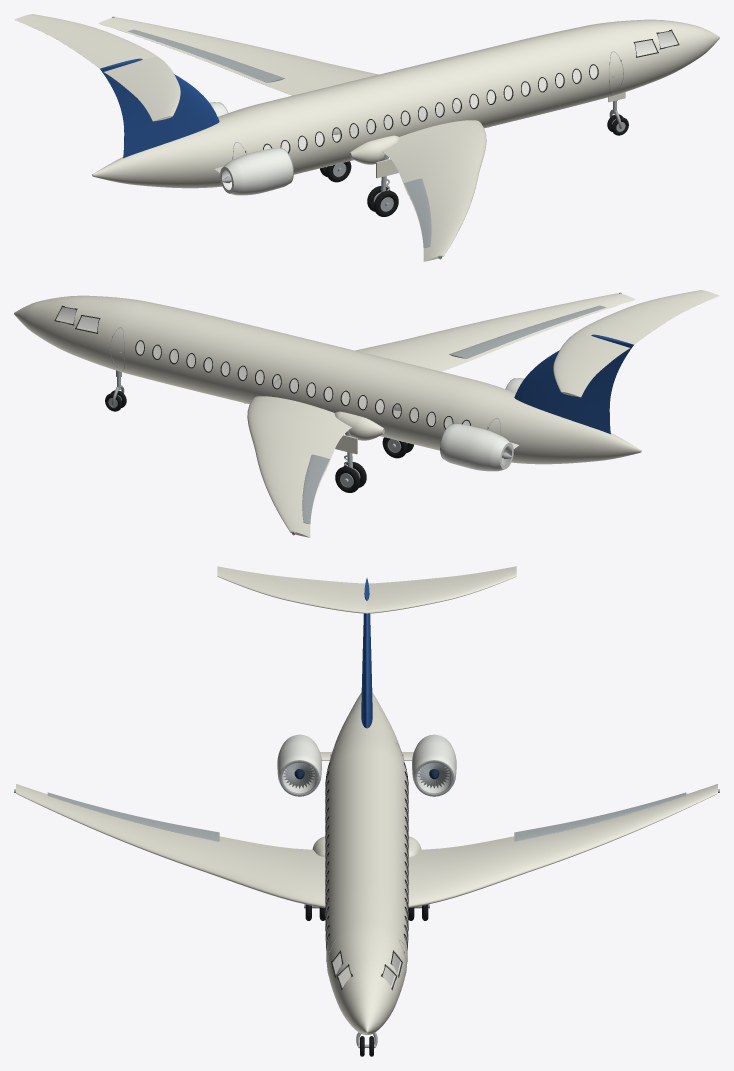
File: regional-jet-aircraft-ae1f8f3d.glb
3 views of the same model, one above another, from view 1: azimuth 30°, elevation 25°; view 2: azimuth 150°, elevation 25°; view 3: azimuth 270°, elevation 25° (orthographic). The views are drawn at different scales.
Visible parts, largest first — view 1: Finite lofted fuselage with actual window apertures, Finite swept main wing -1, Finite swept main wing 1, Shaped seated vertical stabilizer, Finite horizontal stabilizer 1, Finite horizontal stabilizer -1, Turbofan -1 finite open nacelle, Seated finite aileron strip 1, Seated finite aileron strip -1, Main gear root fairing -1; view 2: Finite lofted fuselage with actual window apertures, Finite swept main wing 1, Finite swept main wing -1, Shaped seated vertical stabilizer, Finite horizontal stabilizer -1, Finite horizontal stabilizer 1, Turbofan 1 finite open nacelle, Seated finite aileron strip -1, Seated finite aileron strip 1, Main gear root fairing 1; view 3: Finite lofted fuselage with actual window apertures, Finite swept main wing 1, Finite swept main wing -1, Finite horizontal stabilizer 1, Finite horizontal stabilizer -1, Turbofan -1 finite open nacelle, Turbofan 1 finite open nacelle, Seated finite aileron strip 1, Seated finite aileron strip -1, Shaped seated vertical stabilizer.
Part boxes in pixels (x1,y1,x2,y2): Finite lofted fuselage with actual window apertures: [92, 19, 719, 188]; Finite swept main wing -1: [351, 107, 486, 261]; Finite swept main wing 1: [98, 17, 460, 133]; Shaped seated vertical stabilizer: [100, 58, 219, 158]; Finite horizontal stabilizer 1: [14, 14, 158, 68]; Finite horizontal stabilizer -1: [104, 57, 180, 121]; Turbofan -1 finite open nacelle: [220, 148, 292, 195]; Seated finite aileron strip 1: [127, 29, 284, 82]; Seated finite aileron strip -1: [404, 178, 431, 248]; Main gear root fairing -1: [349, 135, 399, 164]; Finite lofted fuselage with actual window apertures: [14, 295, 641, 464]; Finite swept main wing 1: [247, 383, 382, 537]; Finite swept main wing -1: [273, 293, 635, 409]; Shaped seated vertical stabilizer: [514, 334, 633, 434]; Finite horizontal stabilizer -1: [575, 290, 719, 344]; Finite horizontal stabilizer 1: [553, 333, 629, 397]; Turbofan 1 finite open nacelle: [441, 424, 513, 471]; Seated finite aileron strip -1: [449, 305, 606, 358]; Seated finite aileron strip 1: [302, 454, 329, 524]; Main gear root fairing 1: [334, 411, 384, 440]; Finite lofted fuselage with actual window apertures: [325, 692, 408, 1034]; Finite swept main wing 1: [408, 784, 717, 907]; Finite swept main wing -1: [16, 784, 325, 907]; Finite horizontal stabilizer 1: [367, 566, 516, 613]; Finite horizontal stabilizer -1: [217, 566, 366, 613]; Turbofan -1 finite open nacelle: [277, 734, 321, 793]; Turbofan 1 finite open nacelle: [412, 734, 456, 793]; Seated finite aileron strip 1: [514, 792, 686, 841]; Seated finite aileron strip -1: [47, 792, 219, 841]; Shaped seated vertical stabilizer: [361, 578, 372, 728].
Bounding box in the file's own units: 30.45 × 8.91 × 27.16.
Materials: 11 (11 with a texture image).
